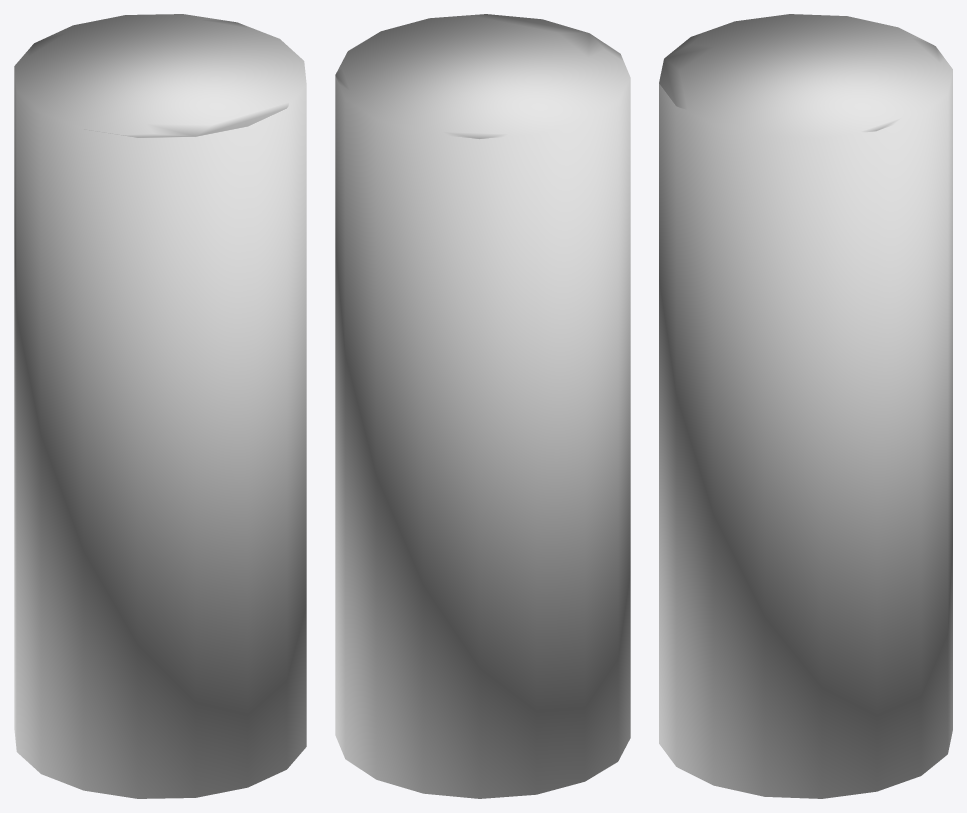
The model's file is zbiornik.gltf.
The picture shows the model from 3 angles, left to right: view 1: azimuth 30°, elevation 25°; view 2: azimuth 150°, elevation 25°; view 3: azimuth 270°, elevation 25°; orthographic projection.
Visible parts, largest first — view 1: Cylinder.002; view 2: Cylinder.002; view 3: Cylinder.002.
Part boxes in pixels (left/top/right/bottom): Cylinder.002: left=14, top=14, right=306, bottom=798; Cylinder.002: left=335, top=14, right=630, bottom=798; Cylinder.002: left=659, top=14, right=952, bottom=798.
Size of the model in its own units: 1.56 by 3.87 by 1.56.
1 material, 1 textured.
